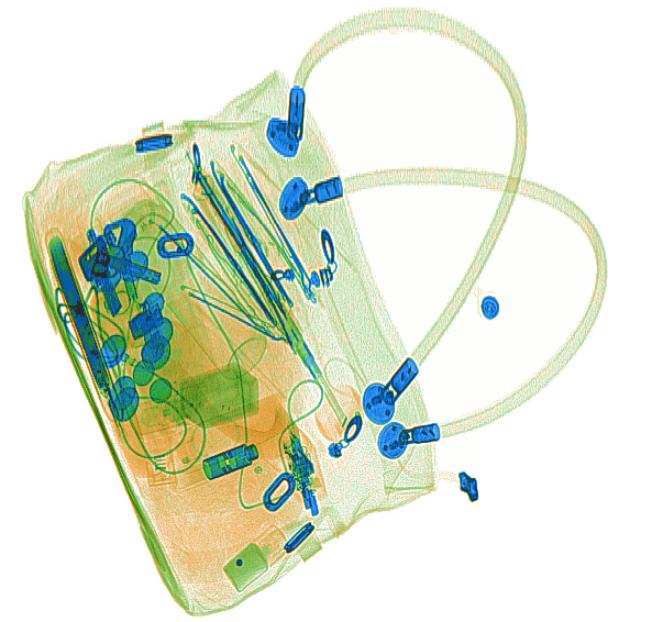plasticBottleWithaNozzle: (123, 341, 179, 490)
pressure: (97, 176, 268, 381)
